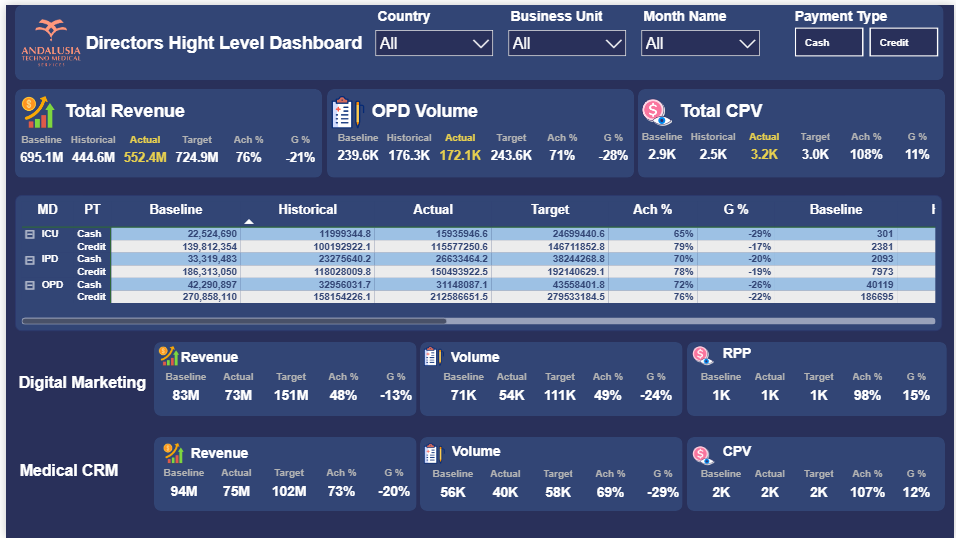

The page's visual inventory and layout, read from the dashboard file:
{"tool":"powerbi","page":{"name":"Dashboard Overview","canvas":[1280,720],"ordinal":1},"visuals":[{"type":"shape","box":[11.7,0,1255,101.7],"z":0},{"type":"textbox","box":[103.4,31.9,410.5,44.1],"z":1000},{"type":"slicer","fields":{"Values":["BU_Dim.Country"]},"box":[489.5,0,179.4,80.6],"z":2000},{"type":"slicer","fields":{"Values":["Date_Dim.MonthName"]},"box":[848.8,0.1,180,80],"z":3000},{"type":"slicer","fields":{"Values":["BU_Dim.BU"]},"box":[669.4,0.1,178.8,80],"z":4000},{"type":"advancedSlicerVisual","title":"Payment Type","fields":{"Values":["PaymentType_Dim.PaymentType"]},"box":[1061.1,4.6,205.2,71.4],"z":5000},{"type":"image","box":[0,0,121.6,101.9],"z":6000},{"type":"shape","box":[12.2,114,415,120],"z":7000},{"type":"textbox","box":[74.5,124.2,211.3,39.5],"z":8000},{"type":"image","box":[13.7,122.8,60.8,44.1],"z":9000},{"type":"shape","box":[433.2,114,415,120],"z":10000},{"type":"shape","box":[853.8,113.8,415,120],"z":11000},{"type":"cardVisual","fields":{"Data":["Billing_Measures.Total Baseline Revenue","Billing_Measures.Total Historical Revenue","Billing_Measures.Total Actual Revenue","Billing_Measures.Total Target Revenue","Billing_Measures.Revenue Ach %","Billing_Measures.Revenue G %"]},"box":[0,160,447.1,72.9],"z":12000},{"type":"cardVisual","fields":{"Data":["Billing_Measures.Total Baseline Volume","Billing_Measures.Total Historical Volume","Billing_Measures.Total Actual Volume","Billing_Measures.Total Target Volume","Billing_Measures.Volume Ach %","Billing_Measures.Volume G %"]},"box":[428.6,151.4,440,82.9],"z":13000},{"type":"textbox","box":[905,124.6,211.2,38.8],"z":14000},{"type":"textbox","box":[489.8,124.6,211.2,38.8],"z":15000},{"type":"image","box":[431,123,61.2,43.8],"z":16000},{"type":"image","box":[848.8,123,61.2,43.8],"z":17000},{"type":"cardVisual","fields":{"Data":["Billing_Measures.Total Baseline CV","Billing_Measures.Total Historical CV","Billing_Measures.Total Actual CV","Billing_Measures.Total Target CV","Billing_Measures.CV Ach %","Billing_Measures.CV G %"]},"box":[838.6,150,441.4,82.9],"z":18000},{"type":"pivotTable","title":"test","fields":{"Rows":["Department_Dim.MDGroup","PaymentType_Dim.PaymentType"],"Values":["Billing_Measures.Total Baseline Revenue","Billing_Measures.Total Historical Revenue","Billing_Measures.Total Actual Revenue","Billing_Measures.Total Target Revenue","Billing_Measures.Revenue Ach %","Billing_Measures.Revenue G %","Billing_Measures.Total Baseline Volume","Billing_Measures.Total Historical Volume","Billing_Measures.Total Actual Volume","Billing_Measures.Total Target Volume","Billing_Measures.Volume Ach %","Billing_Measures.Volume G %"]},"box":[12.2,256.8,1252.7,183.8],"z":19000},{"type":"shape","box":[200,455.7,355,100],"z":20000},{"type":"textbox","box":[12.5,493.8,206.2,43.8],"z":21000},{"type":"textbox","box":[13,612,154.1,36],"z":22000},{"type":"cardVisual","fields":{"Data":["Marketing_Measures.Mkt Baseline Revenue","Marketing_Measures.Mkt Actual Revenue","Marketing_Measures.Mkt Target Revenue","Marketing_Measures.Mkt Revenue Ach %","Marketing_Measures.Mkt Revenue G %"]},"box":[194.3,478.5,384.3,75.7],"z":23000},{"type":"shape","box":[560,455.7,355,100],"z":24000},{"type":"shape","box":[920.3,455.4,351.4,100],"z":25000},{"type":"textbox","box":[231.4,461.4,108.6,32.9],"z":26000},{"type":"image","box":[194.3,461.4,51.4,27.1],"z":27000},{"type":"textbox","box":[963.3,455.6,108.9,33.3],"z":28000},{"type":"textbox","box":[595.7,461.4,108.6,32.9],"z":29000},{"type":"image","box":[561.4,461.4,35.7,27.1],"z":30000},{"type":"cardVisual","fields":{"Data":["Marketing_Measures.Mkt Baseline Volume","Marketing_Measures.Mkt Actual Volume","Marketing_Measures.Mkt Target Volume","Marketing_Measures.Mkt Volume Ach %","Marketing_Measures.Mkt Volume G %"]},"box":[572.9,478.5,352.9,75.7],"z":31000},{"type":"cardVisual","fields":{"Data":["Marketing_Measures.Mkt Baseline RPP","Marketing_Measures.Mkt Actual RPP","Marketing_Measures.Mkt Target RPP","Marketing_Measures.Mkt RPP Ach %","Marketing_Measures.Mkt RPP G %"]},"box":[920,478.6,360,75.6],"z":32000},{"type":"image","box":[920,457.8,43.3,31.1],"z":33000},{"type":"shape","box":[920.3,583.8,348.6,100],"z":34000},{"type":"shape","box":[560,584.2,355,100],"z":35000},{"type":"shape","box":[200,584.2,355,100],"z":36000},{"type":"cardVisual","fields":{"Data":["CRM_Measures.CRM Baseline Revenue","CRM_Measures.CRM Actual Revenue","CRM_Measures.CRM Target Revenue","CRM_Measures.CRM Revenue Ach %","CRM_Measures.CRM Revenue G %"]},"box":[192.5,608.8,385,75],"z":37000},{"type":"textbox","box":[597.5,587.5,108.8,32.5],"z":38000},{"type":"textbox","box":[245,590,111.2,32.5],"z":39000},{"type":"textbox","box":[963.8,587.5,108.8,32.5],"z":40000},{"type":"image","box":[200,592.5,52.5,27.5],"z":41000},{"type":"image","box":[561.2,592.5,36.2,27.5],"z":42000},{"type":"image","box":[920,593.8,43.8,31.2],"z":43000},{"type":"cardVisual","fields":{"Data":["CRM_Measures.CRM Baseline Volume","CRM_Measures.CRM Actual Volume","CRM_Measures.CRM Target Volume","CRM_Measures.CRM Volume Ach %","CRM_Measures.CRM Volume G %"]},"box":[555,610,385,75],"z":44000},{"type":"cardVisual","fields":{"Data":["CRM_Measures.CRM Baseline CPV","CRM_Measures.CRM Actual CPV","CRM_Measures.CRM Target CPV","CRM_Measures.CRM CPV Ach %","CRM_Measures.CRM CPV G %"]},"box":[920,610,360,75],"z":45000}]}

Visuals, with their boxes in screenshot pixels (x1, y1, x2, y2), scaled from the page's 1280x720 canvas onto the 956x538 screenshot:
shape: 9/0/946/76
textbox: 77/24/384/57
slicer - BU_Dim.Country: 366/0/500/60
slicer - Date_Dim.MonthName: 634/0/768/60
slicer - BU_Dim.BU: 500/0/633/60
"Payment Type" advancedSlicerVisual: 793/3/946/57
image: 0/0/91/76
shape: 9/85/319/175
textbox: 56/93/213/122
image: 10/92/56/125
shape: 324/85/633/175
shape: 638/85/948/175
cardVisual - Billing_Measures.Total Baseline Revenue x Billing_Measures.Total Historical Revenue: 0/120/334/174
cardVisual - Billing_Measures.Total Baseline Volume x Billing_Measures.Total Historical Volume: 320/113/649/175
textbox: 676/93/834/122
textbox: 366/93/524/122
image: 322/92/368/125
image: 634/92/680/125
cardVisual - Billing_Measures.Total Baseline CV x Billing_Measures.Total Historical CV: 626/112/955/174
"test" pivotTable: 9/192/945/329
shape: 149/341/415/415
textbox: 9/369/163/402
textbox: 10/457/125/484
cardVisual - Marketing_Measures.Mkt Baseline Revenue x Marketing_Measures.Mkt Actual Revenue: 145/358/432/414
shape: 418/341/683/415
shape: 687/340/950/415
textbox: 173/345/254/369
image: 145/345/184/365
textbox: 719/340/801/365
textbox: 445/345/526/369
image: 419/345/446/365
cardVisual - Marketing_Measures.Mkt Baseline Volume x Marketing_Measures.Mkt Actual Volume: 428/358/691/414
cardVisual - Marketing_Measures.Mkt Baseline RPP x Marketing_Measures.Mkt Actual RPP: 687/358/955/414
image: 687/342/719/365
shape: 687/436/948/511
shape: 418/437/683/511
shape: 149/437/415/511
cardVisual - CRM_Measures.CRM Baseline Revenue x CRM_Measures.CRM Actual Revenue: 144/455/431/511
textbox: 446/439/528/463
textbox: 183/441/266/465
textbox: 720/439/801/463
image: 149/443/189/463
image: 419/443/446/463
image: 687/444/720/467
cardVisual - CRM_Measures.CRM Baseline Volume x CRM_Measures.CRM Actual Volume: 415/456/702/512
cardVisual - CRM_Measures.CRM Baseline CPV x CRM_Measures.CRM Actual CPV: 687/456/955/512
